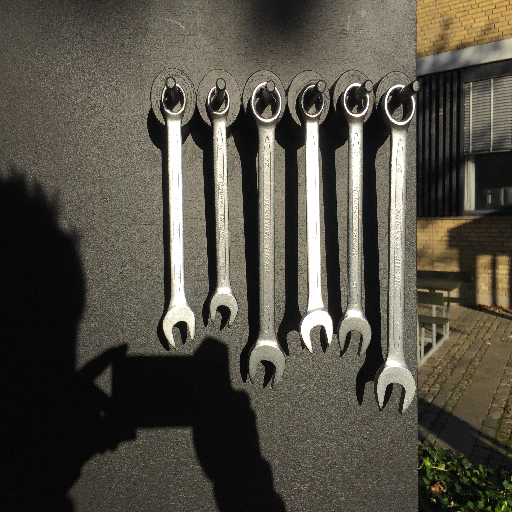bottom: (373, 358, 417, 414), (246, 341, 287, 390), (160, 304, 197, 349), (336, 309, 370, 357), (299, 307, 334, 353), (208, 289, 239, 329)
top: (381, 83, 417, 130), (249, 81, 284, 126), (340, 82, 371, 123), (297, 82, 326, 123), (159, 82, 189, 121), (205, 85, 234, 120)
